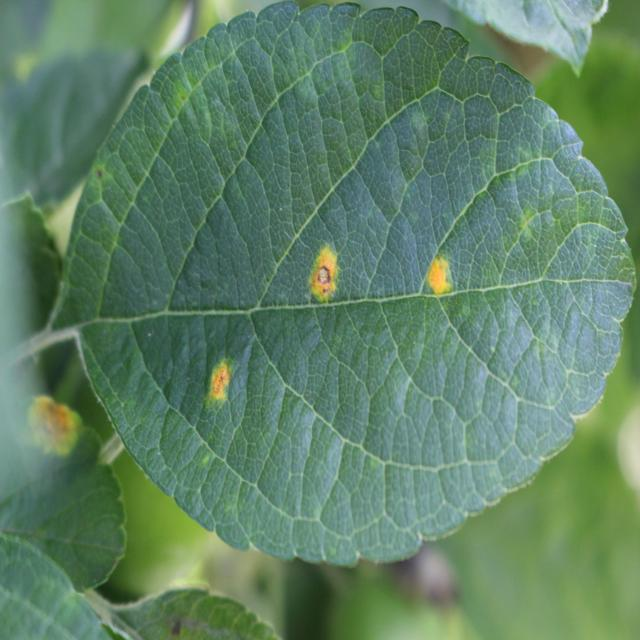Rust: (17, 386, 93, 469), (420, 228, 459, 330), (302, 230, 344, 312), (203, 336, 237, 427)
